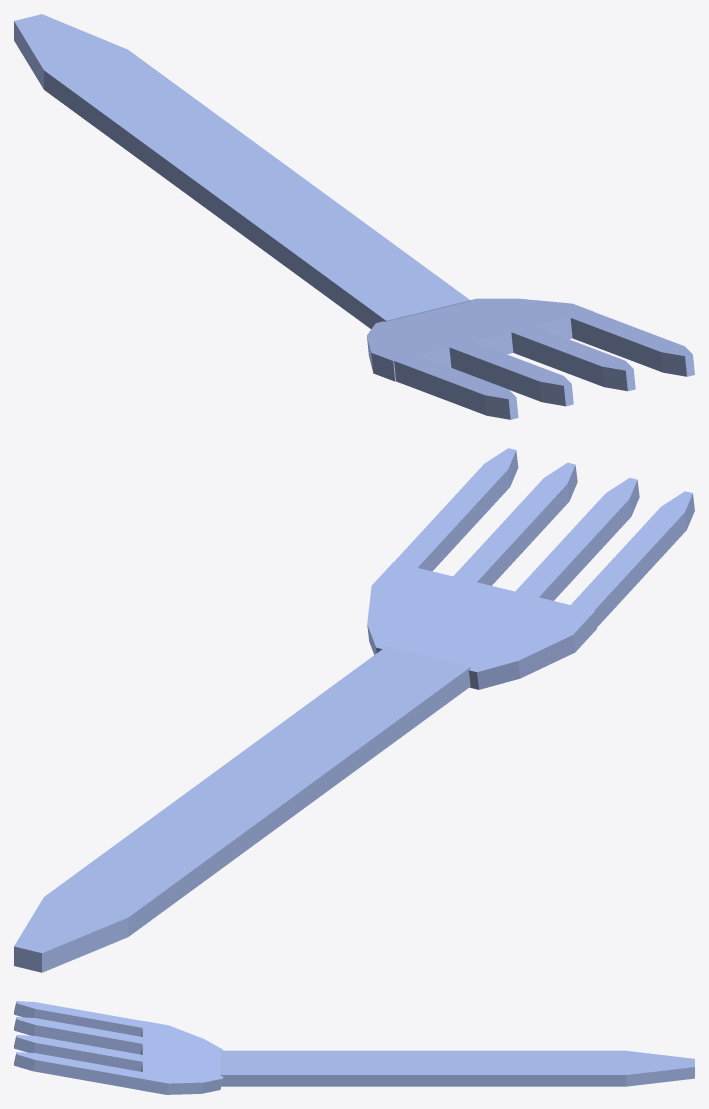
File: ForkV1.fbx
3 renders of one model, top to bottom at view 1: azimuth 30°, elevation 25°; view 2: azimuth 150°, elevation 25°; view 3: azimuth 270°, elevation 25°, orthographic. The views are drawn at different scales.
Parts seen in each view (by area): view 1: Cube.001; view 2: Cube.001; view 3: Cube.001.
Part boxes in pixels (box(x1,y1,x2,y2)): Cube.001: box(14, 14, 694, 419); Cube.001: box(14, 448, 694, 972); Cube.001: box(14, 1001, 694, 1094).
Bounding box in the file's own units: 241 × 48.72 × 18.66.
